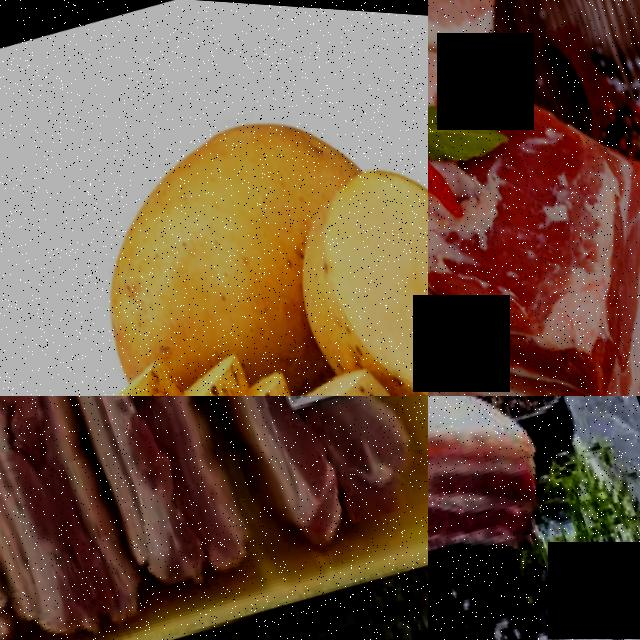pork belly: (428, 96, 640, 396), (29, 396, 258, 598), (0, 396, 143, 640), (428, 396, 561, 640), (150, 396, 337, 560)
potato: (58, 95, 344, 396), (278, 121, 428, 396)
